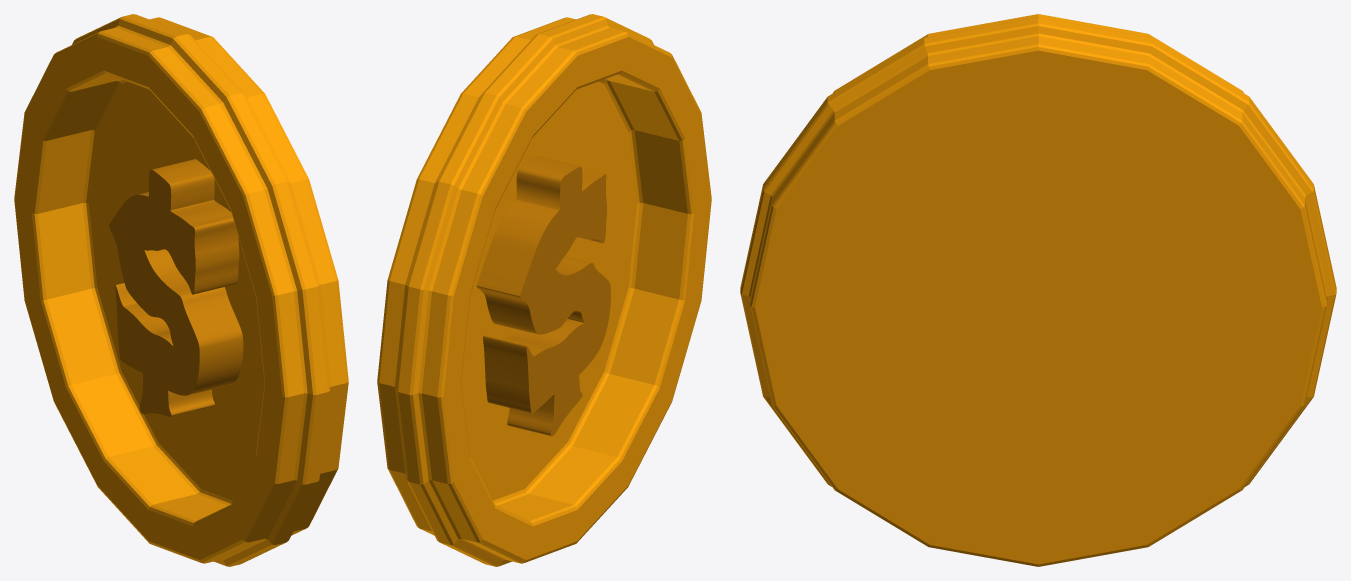
Rendered from Coin.fbx.
The picture shows the model from 3 angles, left to right: view 1: azimuth 30°, elevation 25°; view 2: azimuth 150°, elevation 25°; view 3: azimuth 270°, elevation 25°; orthographic projection. The views are drawn at different scales.
Visible parts, largest first — view 1: Circle.001, Text.002; view 2: Circle.001, Text.002; view 3: Circle.001.
Boxes of the visible parts, bbox=[...] form: Circle.001: bbox=[14, 14, 348, 566]; Text.002: bbox=[109, 159, 243, 416]; Circle.001: bbox=[377, 14, 711, 566]; Text.002: bbox=[476, 156, 610, 436]; Circle.001: bbox=[740, 14, 1336, 566].
Size of the model in its own units: 13.99 by 103 by 103.
